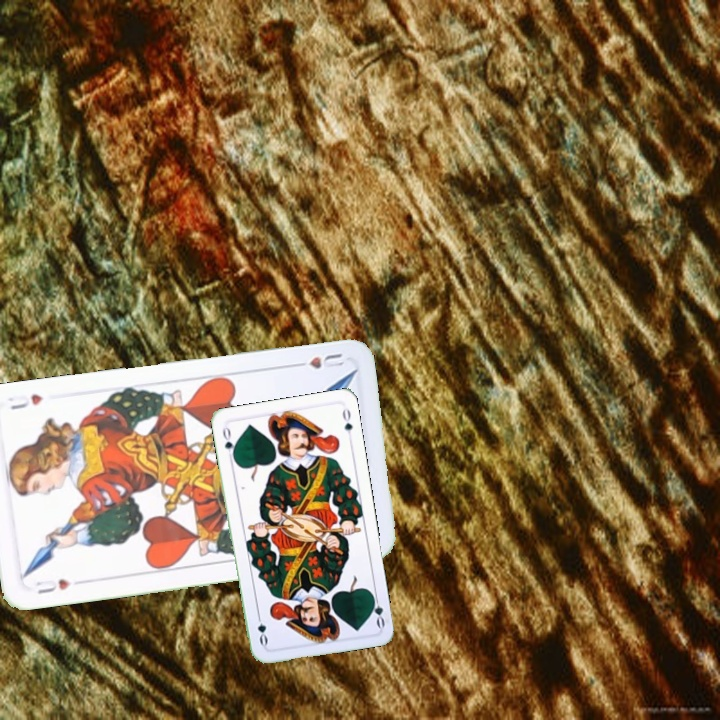GO: (218, 422, 238, 463), (367, 589, 387, 630)
HU: (289, 349, 347, 373), (31, 575, 73, 597)
